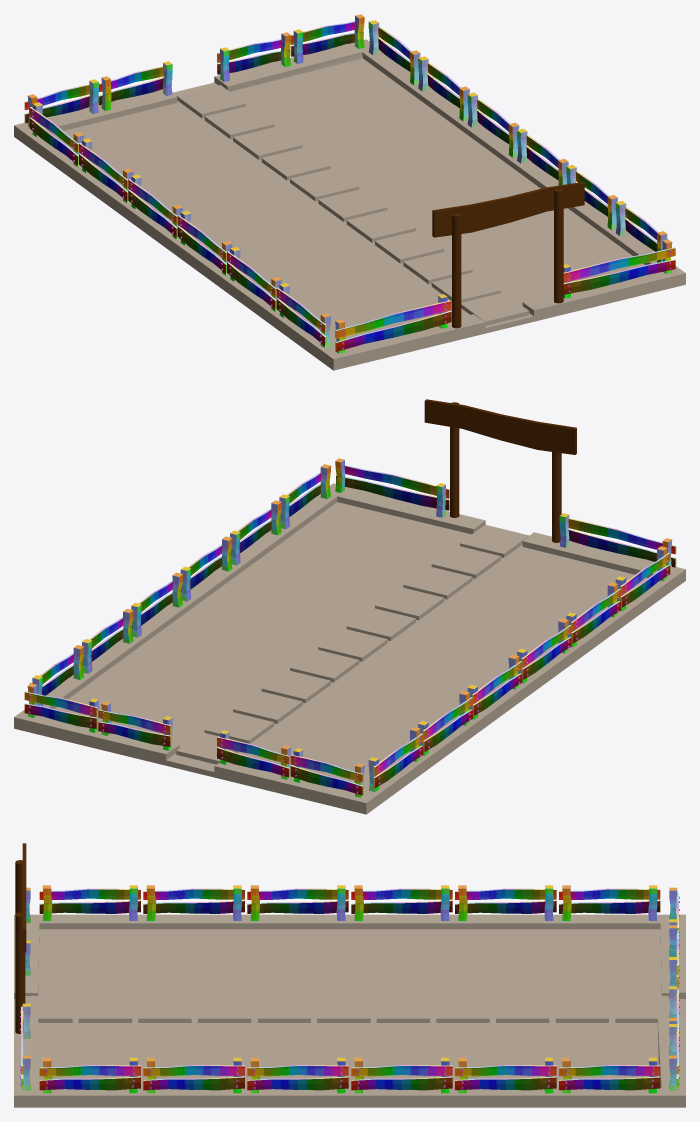
Rendered from Island Dragon_v2.fbx.
3 views of the same model, one above another, from view 1: azimuth 30°, elevation 25°; view 2: azimuth 150°, elevation 25°; view 3: azimuth 270°, elevation 25° (orthographic). The views are drawn at different scales.
Parts seen in each view (by area): view 1: polySurface896, polySurface897; view 2: polySurface896, polySurface897; view 3: polySurface896, polySurface897.
Part boxes in pixels (x1=…): polySurface896: x1=14, y1=14, x2=685, y2=370; polySurface897: x1=432, y1=182, x2=584, y2=328; polySurface896: x1=14, y1=458, x2=685, y2=814; polySurface897: x1=424, y1=399, x2=576, y2=542; polySurface896: x1=14, y1=885, x2=685, y2=1107; polySurface897: x1=15, y1=843, x2=26, y2=1033.
Bounding box in the file's own units: 35.9 × 12.7 × 56.38.
Materials: 1 (1 with a texture image).
